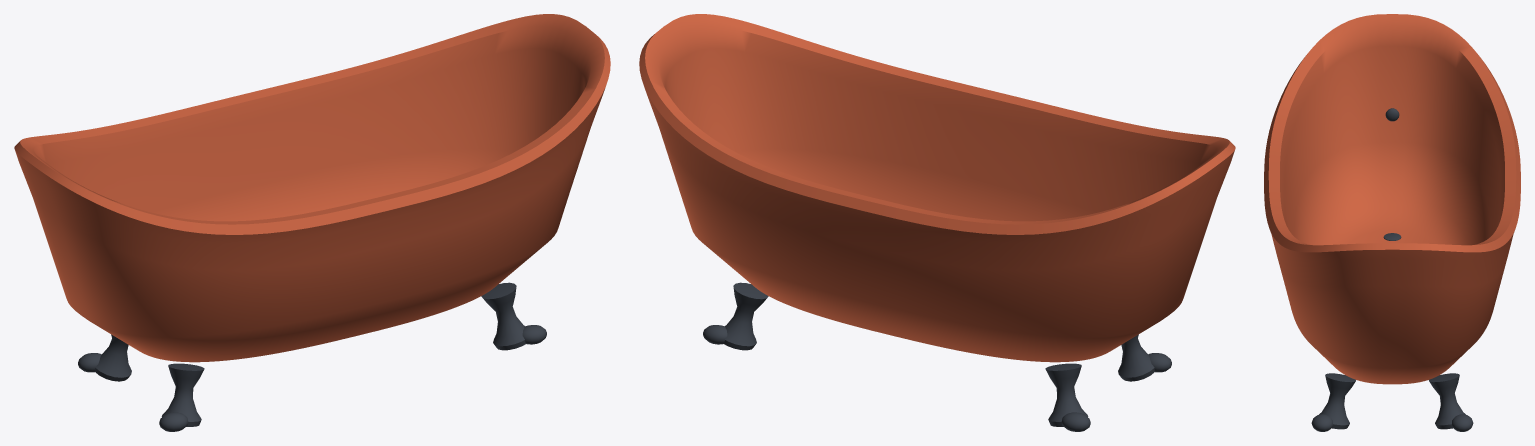
Rendered from banheira_vitoriana_vermelha.glb.
The picture shows the model from 3 angles, left to right: view 1: azimuth 30°, elevation 25°; view 2: azimuth 150°, elevation 25°; view 3: azimuth 270°, elevation 25°; orthographic projection. The views are drawn at different scales.
Parts seen in each view (by area): view 1: banheira_vitoriana_vermelha; view 2: banheira_vitoriana_vermelha; view 3: banheira_vitoriana_vermelha.
Boxes of the visible parts, bbox=[...] form: banheira_vitoriana_vermelha: bbox=[14, 14, 610, 431]; banheira_vitoriana_vermelha: bbox=[639, 14, 1235, 431]; banheira_vitoriana_vermelha: bbox=[1264, 14, 1520, 431].
Bounding box in the file's own units: 1.74 × 0.8014 × 0.81.
1 material, 1 textured.
